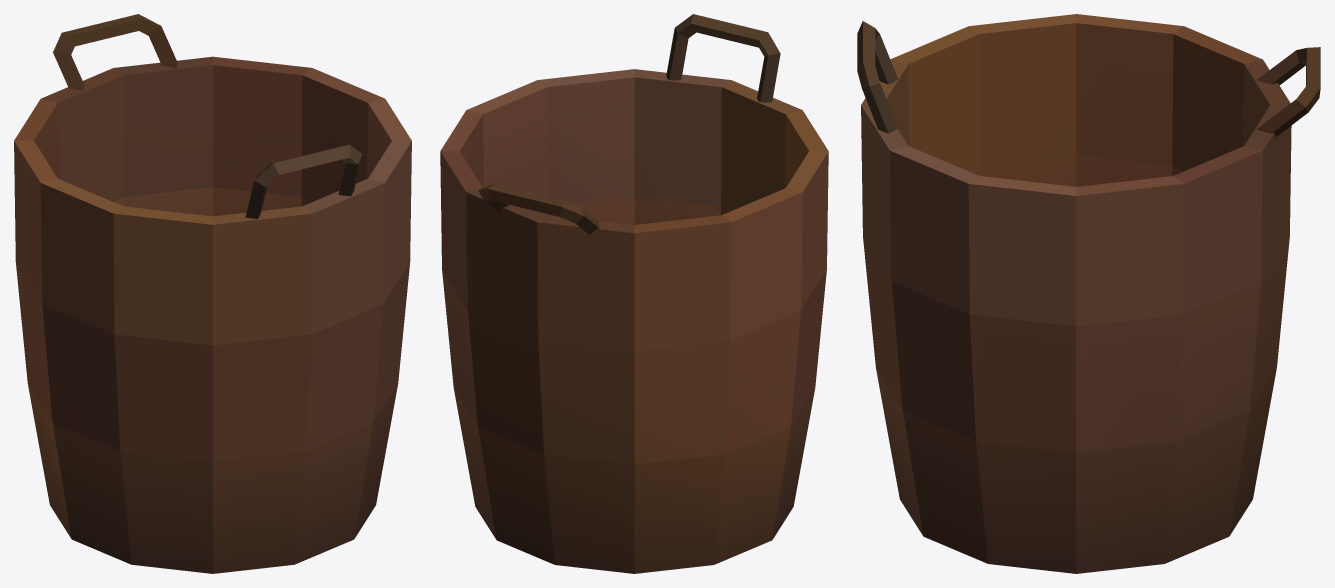
File: Prop_Basket.fbx
3 renders of one model, left to right at view 1: azimuth 30°, elevation 25°; view 2: azimuth 150°, elevation 25°; view 3: azimuth 270°, elevation 25°, orthographic. The views are drawn at different scales.
Visible parts, largest first — view 1: Prop_Basket; view 2: Prop_Basket; view 3: Prop_Basket.
Part boxes in pixels (box(x1,y1,x2,y2)): Prop_Basket: box(14, 14, 411, 573); Prop_Basket: box(440, 14, 828, 573); Prop_Basket: box(857, 14, 1320, 573).
Bounding box in the file's own units: 60.9 × 71.46 × 65.52.
